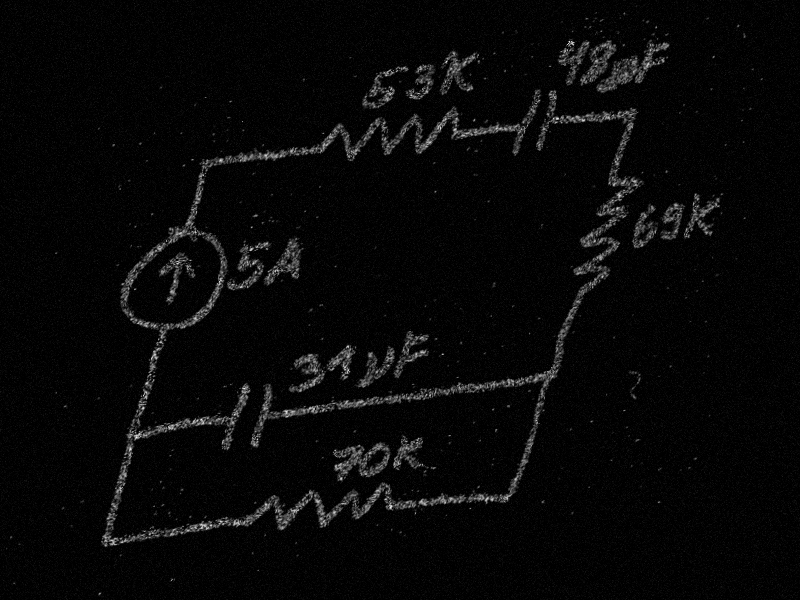0: (356, 440, 394, 479)
1: (322, 340, 360, 386)
3: (282, 349, 331, 396), (404, 61, 438, 103)
4: (550, 34, 590, 89)
5: (226, 237, 272, 293), (360, 65, 410, 111)
6: (627, 202, 664, 252)
7: (322, 441, 366, 487)
8: (580, 41, 617, 84)
9: (656, 200, 688, 244)
A: (264, 236, 308, 286)
F: (393, 326, 434, 381), (637, 38, 671, 85)
k: (434, 43, 484, 99), (681, 186, 724, 244), (391, 429, 429, 474)
u: (356, 344, 397, 388), (606, 56, 639, 92)
